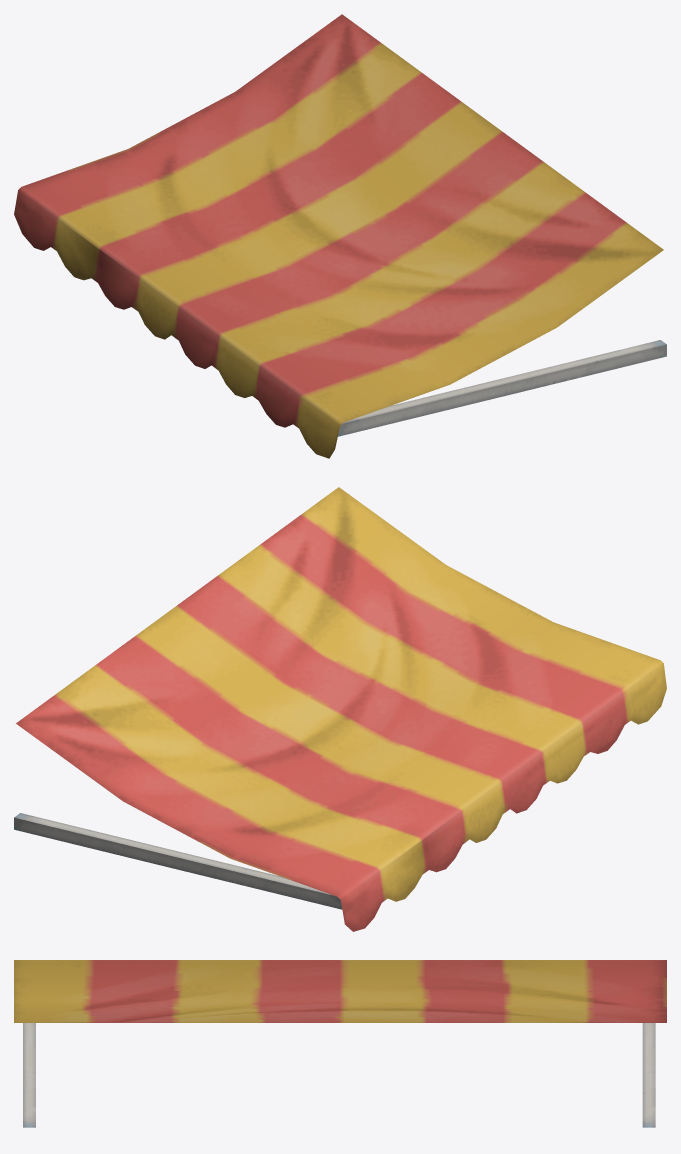
The model's file is hbxz_wj014_01.FBX.
3 renders of one model, top to bottom at view 1: azimuth 30°, elevation 25°; view 2: azimuth 150°, elevation 25°; view 3: azimuth 270°, elevation 25°, orthographic.
Parts seen in each view (by area): view 1: hbxz_wj014_01; view 2: hbxz_wj014_01; view 3: hbxz_wj014_01.
Boxes of the visible parts, x1,y1,x2,y2 form: hbxz_wj014_01: (14, 14, 666, 458); hbxz_wj014_01: (14, 487, 666, 931); hbxz_wj014_01: (14, 960, 666, 1127).
Size of the model in its own units: 120 by 47.59 by 200.
1 material, 1 textured.
